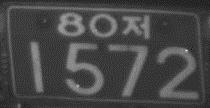0: (89, 12, 118, 38)
1: (22, 40, 52, 93)
2: (156, 45, 199, 100)
5: (64, 41, 104, 95)
7: (107, 42, 148, 98)
8: (57, 10, 86, 37)
저: (122, 13, 150, 40)
